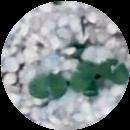Basil: (67, 62, 96, 94), (30, 74, 65, 98), (105, 60, 128, 85)
